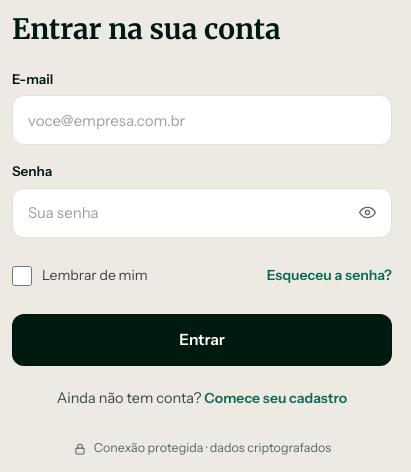
Test: LoginForm — two-step login › shows the code step when the backend requires MFA (no navigation yet)
Type "admin@empresa.com.br" into the field labelled "E-mail".
click(202, 120); type("admin@empresa.com.br")  # box [12,95,392,145]
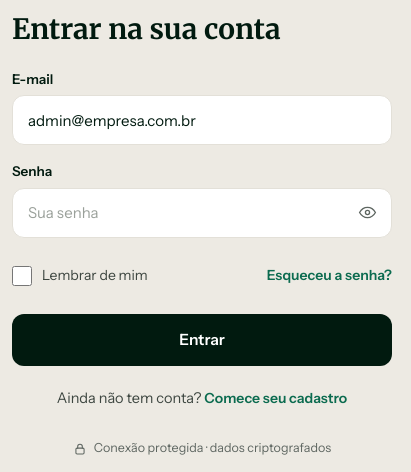
Type "s3nh4-valida" into the password field labelled "Senha".
click(202, 212); type("s3nh4-valida")  # box [12,188,392,238]
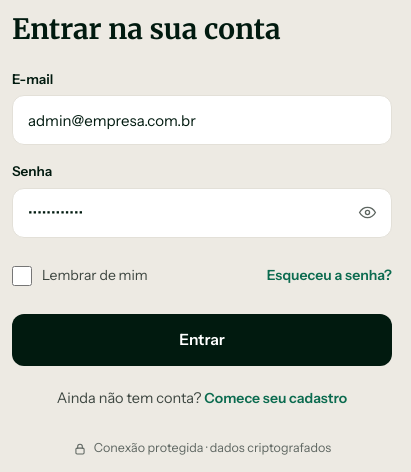
Click the button "Entrar".
click(202, 340)  # box [12,314,392,366]
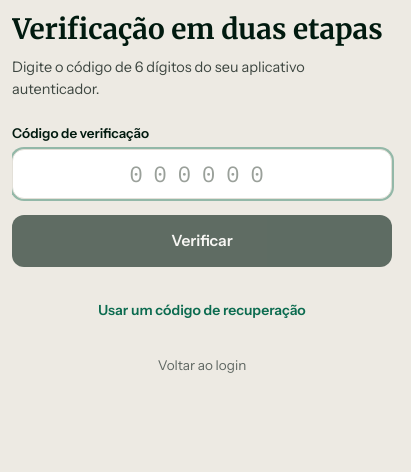
expect the heading "Verificação em duas etapas" is shown: met, box [12,12,392,47]
expect the field labelled "Código de verificação" is shown: met, box [12,149,392,199]
